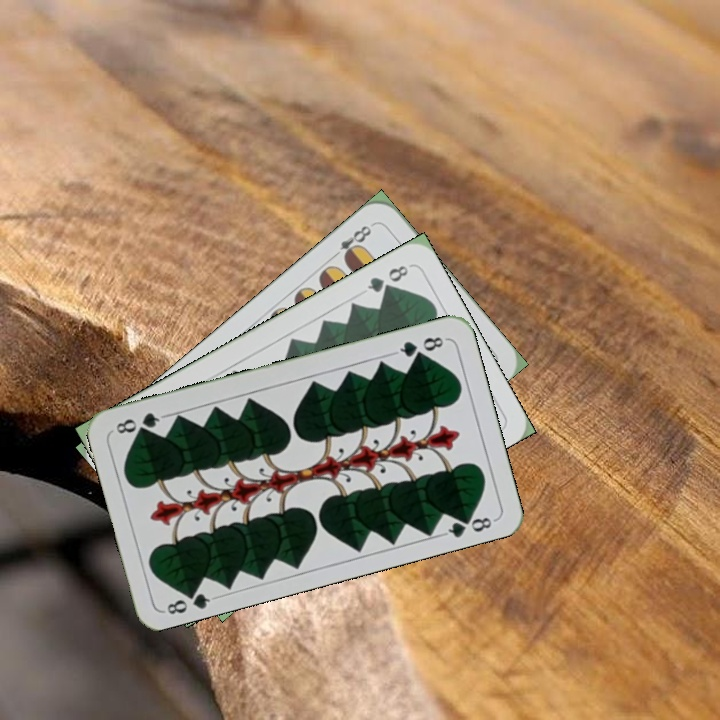E8: (327, 219, 377, 264)
G8: (160, 583, 219, 617), (362, 261, 412, 295), (391, 332, 449, 360)
